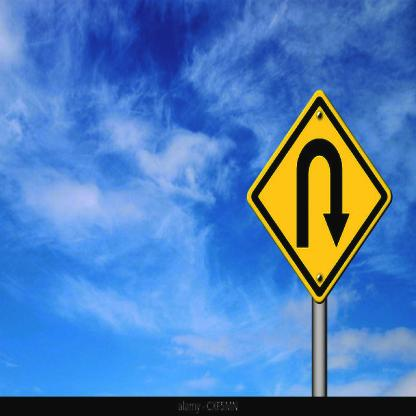U-turn: (245, 90, 394, 307)
